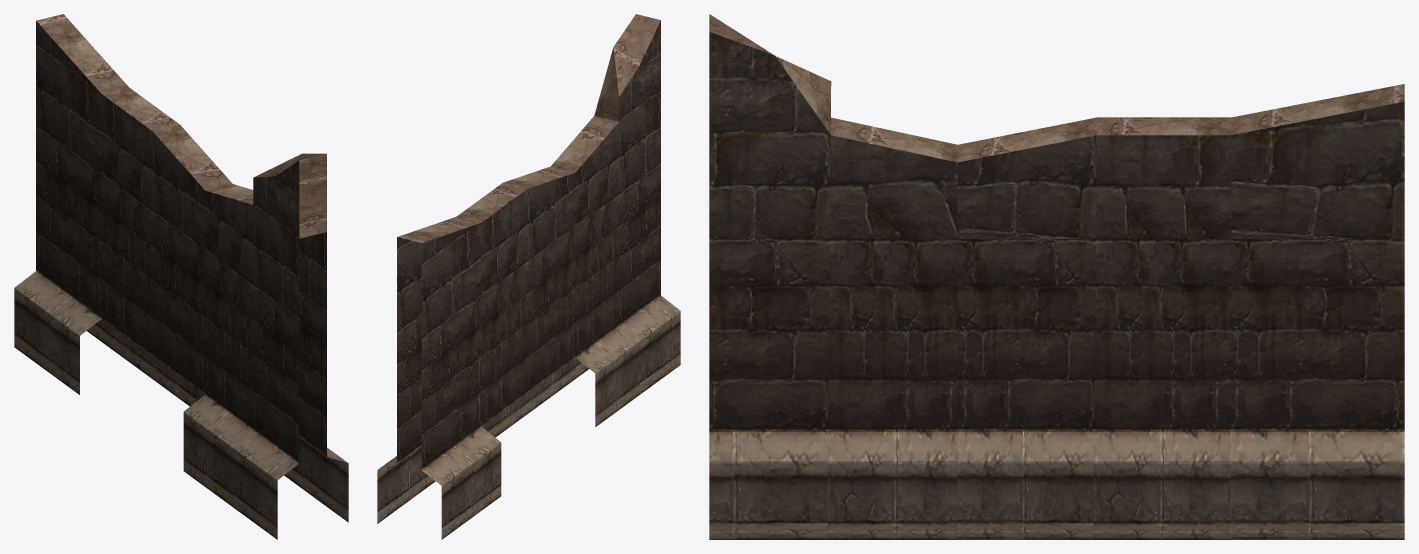
The model's file is blsd_4qiangm_02.FBX.
3 renders of one model, left to right at view 1: azimuth 30°, elevation 25°; view 2: azimuth 150°, elevation 25°; view 3: azimuth 270°, elevation 25°, orthographic. The views are drawn at different scales.
Visible parts, largest first — view 1: blsd_4qiangm_02; view 2: blsd_4qiangm_02; view 3: blsd_4qiangm_02.
Boxes of the visible parts, x1,y1,x2,y2 form: blsd_4qiangm_02: (14, 14, 348, 539); blsd_4qiangm_02: (377, 14, 680, 539); blsd_4qiangm_02: (709, 14, 1404, 539).
Size of the model in its own units: 125 by 630 by 803.
